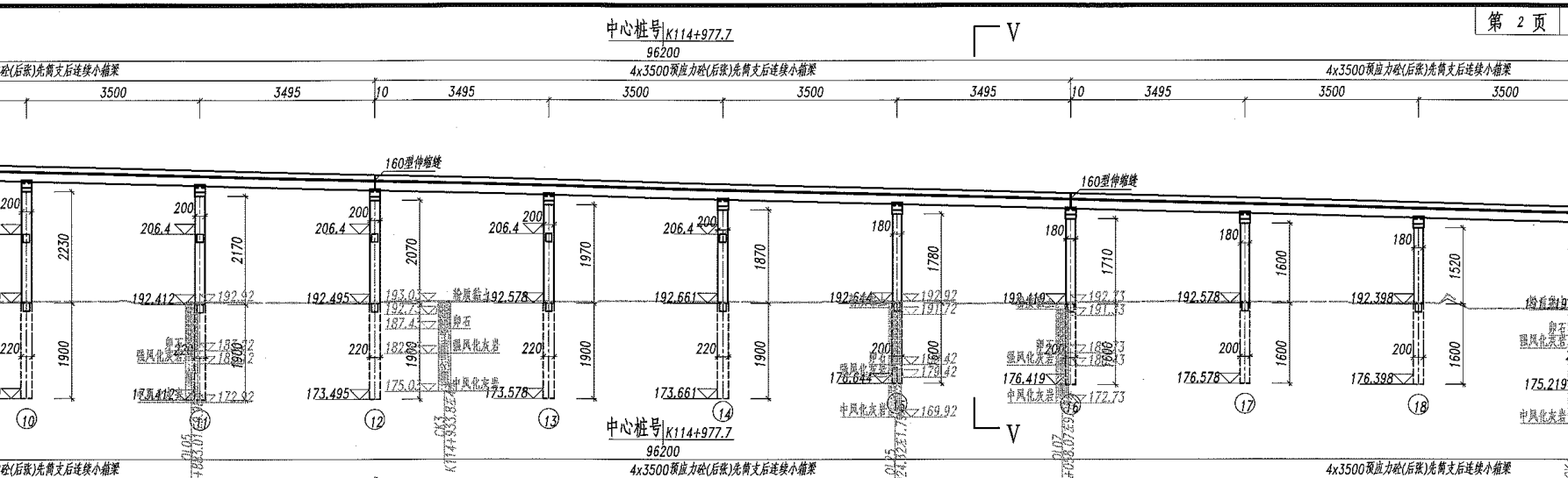B: (365, 48, 1094, 92)
C: (125, 175, 219, 433), (298, 181, 394, 433), (479, 184, 571, 432), (651, 189, 743, 428), (822, 195, 914, 420), (1169, 203, 1263, 418), (1342, 209, 1436, 419), (996, 200, 1086, 419), (0, 172, 47, 436)
